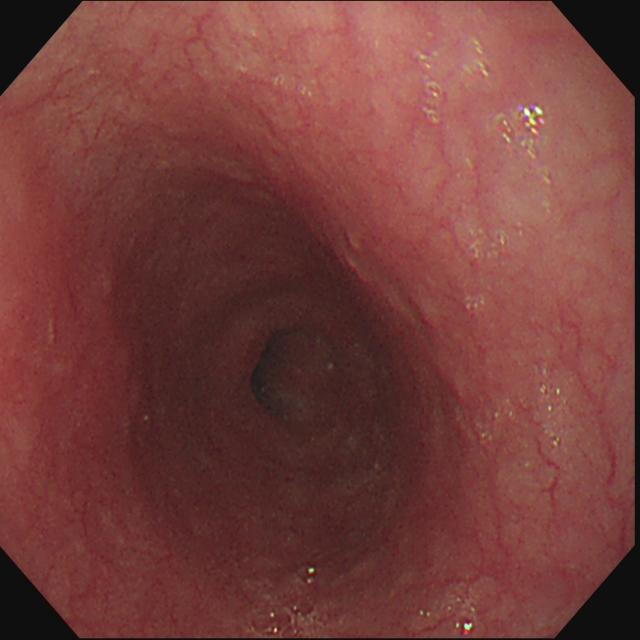E: (246, 322, 344, 445)
T: (250, 592, 327, 638), (494, 101, 547, 156)
